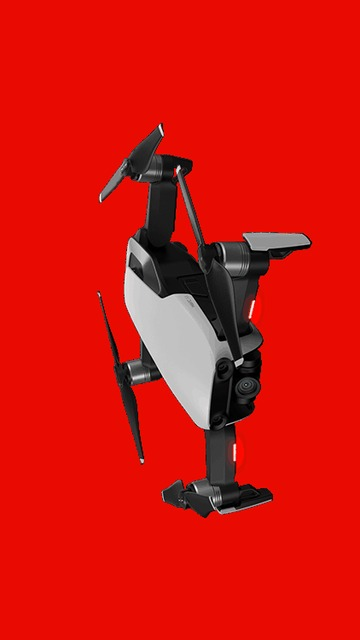drone: (97, 123, 311, 520)
